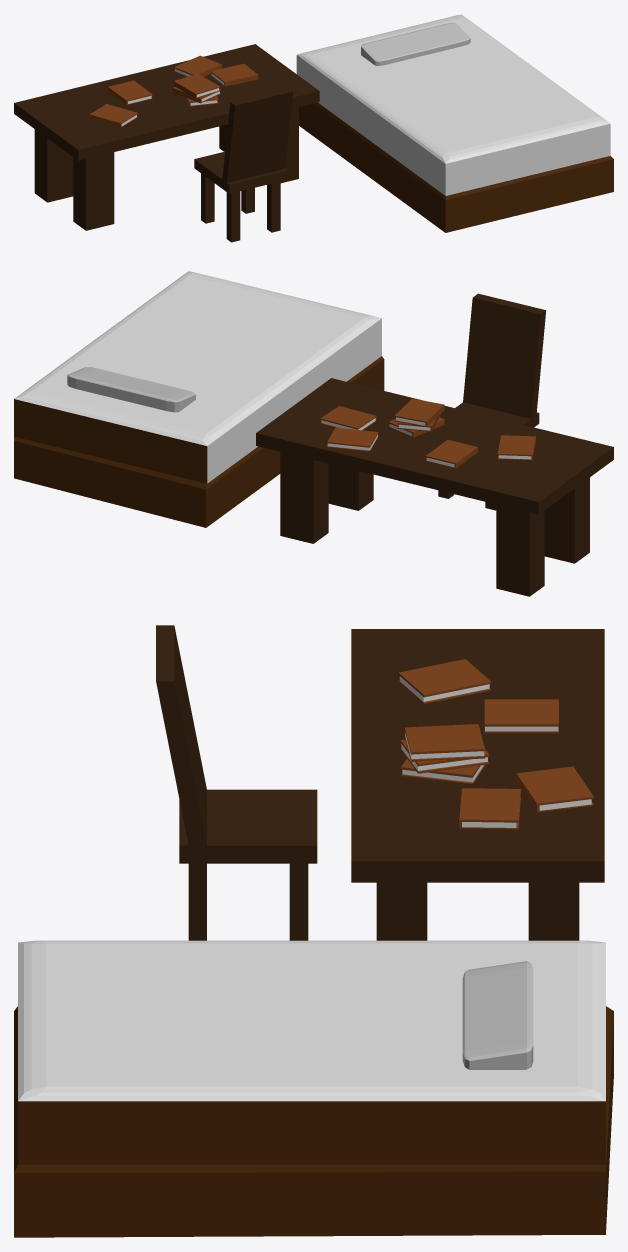
The model's file is RoomSet.glb.
The picture shows the model from 3 angles, top to bottom: view 1: azimuth 30°, elevation 25°; view 2: azimuth 150°, elevation 25°; view 3: azimuth 270°, elevation 25°; orthographic projection. The views are drawn at different scales.
Parts seen in each view (by area): view 1: Cube.060, Cube.061, Cube.062, Cube.070, Cube.064, Cube.067, Cube.069, Cube.063, Cube.068; view 2: Cube.060, Cube.061, Cube.062, Cube.070, Cube.067, Cube.068, Cube.063, Cube.069, Cube.064; view 3: Cube.060, Cube.061, Cube.062, Cube.070, Cube.064, Cube.067, Cube.063, Cube.068, Cube.069, Cube.065, Cube.066.
Part boxes in pixels (box(x1,y1,x2,y2)): Cube.060: box(296, 14, 613, 232); Cube.061: box(14, 44, 319, 230); Cube.062: box(194, 88, 293, 242); Cube.070: box(361, 22, 470, 65); Cube.064: box(89, 104, 137, 127); Cube.067: box(173, 73, 219, 98); Cube.069: box(211, 63, 258, 86); Cube.063: box(108, 80, 152, 104); Cube.068: box(174, 55, 221, 76); Cube.060: box(14, 271, 384, 527); Cube.061: box(256, 378, 613, 596); Cube.062: box(438, 293, 546, 510); Cube.070: box(67, 367, 195, 412); Cube.067: box(394, 398, 444, 427); Cube.068: box(327, 427, 378, 451); Cube.063: box(425, 439, 477, 468); Cube.069: box(320, 406, 376, 430); Cube.064: box(497, 435, 535, 460); Cube.060: box(14, 940, 613, 1237); Cube.061: box(351, 629, 604, 940); Cube.062: box(156, 625, 317, 940); Cube.070: box(462, 961, 533, 1069); Cube.064: box(398, 659, 490, 703); Cube.067: box(404, 724, 484, 761); Cube.063: box(484, 699, 558, 733); Cube.068: box(516, 766, 593, 812); Cube.069: box(459, 788, 520, 829); Cube.065: box(401, 751, 488, 784); Cube.066: box(400, 739, 488, 773).
Bounding box in the file's own units: 5.26 × 1.61 × 3.08.
